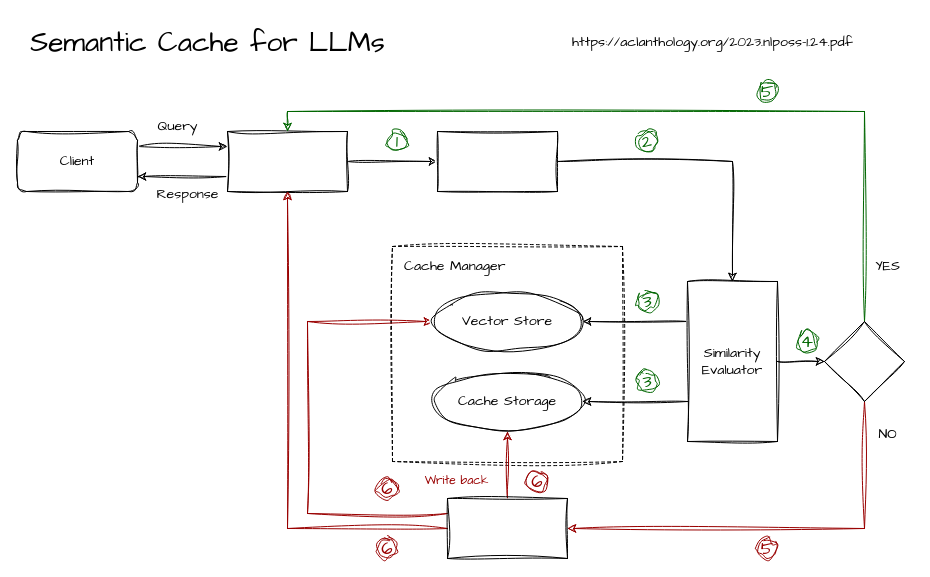
Image size: 930x577. Some labels were removed from this diagram. The shapes that lost their labels are listed below. From the top down, each one's centre as x and y in pixels, then its label:
At point 287,161: "LLM Adapter".
At point 497,161: "Embedding Generator".
At point 864,361: "Cache Hit".
At point 507,528: "LLM".
